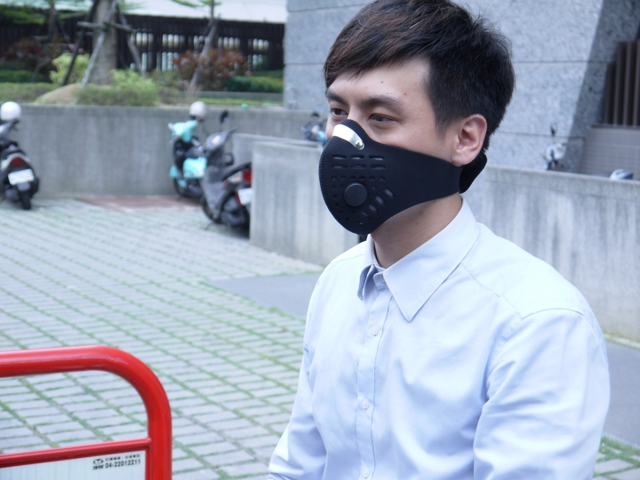mask: (315, 149, 437, 224)
